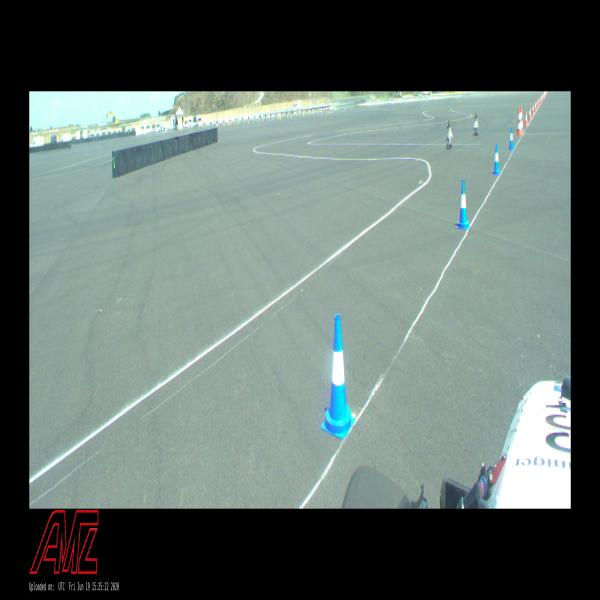blue_cone: (321, 314, 355, 439), (456, 179, 470, 229), (492, 144, 501, 175), (509, 127, 514, 150), (521, 118, 523, 134)
large_orange_cone: (516, 107, 522, 136), (520, 105, 524, 134)
orange_cone: (524, 111, 528, 126), (528, 107, 532, 119), (532, 104, 534, 114), (536, 99, 538, 108), (534, 102, 536, 110)
